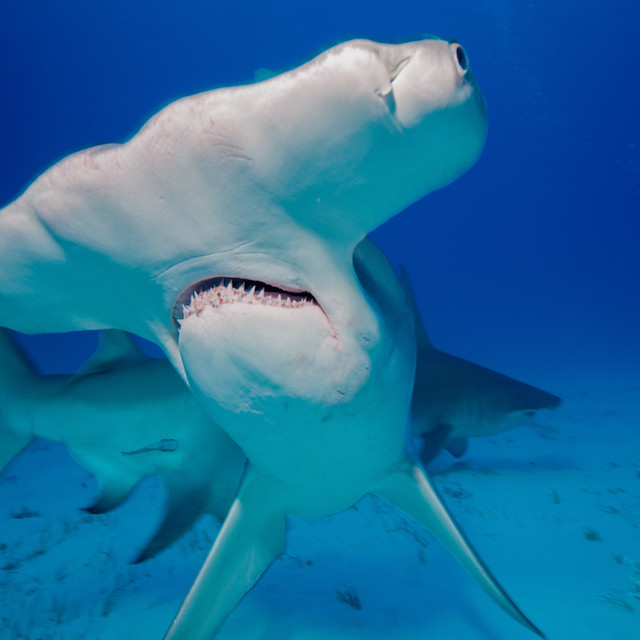hammerhead: (28, 30, 480, 533)
